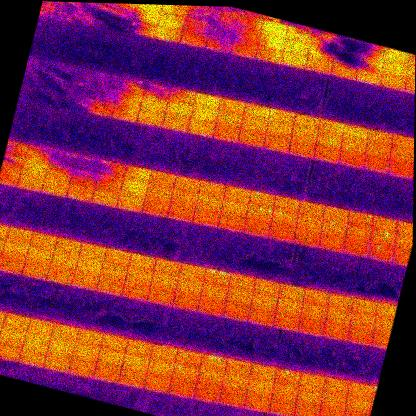Diode: (202, 268, 231, 289)
Hotspot: (273, 366, 302, 389), (128, 252, 157, 274), (104, 247, 132, 269), (367, 242, 395, 264), (5, 226, 34, 247), (293, 228, 322, 249), (342, 238, 371, 259), (171, 364, 200, 385), (224, 358, 253, 379), (1, 240, 29, 261), (297, 200, 325, 221), (175, 349, 203, 370), (220, 199, 249, 219), (270, 208, 299, 228), (248, 190, 276, 210), (347, 210, 375, 230), (200, 354, 228, 374), (320, 220, 348, 239), (369, 229, 397, 248), (119, 77, 147, 96), (246, 204, 273, 223)
Normal: (143, 371, 173, 395), (146, 284, 175, 308), (172, 289, 201, 313), (197, 293, 226, 317), (169, 376, 198, 400), (246, 305, 276, 328), (243, 215, 271, 239), (322, 320, 351, 343), (18, 346, 47, 369), (94, 361, 123, 384), (118, 367, 147, 390), (21, 260, 51, 282), (29, 231, 59, 253), (53, 237, 83, 259), (348, 311, 378, 333), (349, 297, 379, 319), (361, 154, 391, 176), (243, 392, 273, 414), (124, 338, 154, 360), (248, 362, 278, 384), (273, 311, 301, 334), (326, 292, 354, 315), (194, 382, 222, 405), (46, 264, 75, 286), (122, 281, 151, 303), (347, 326, 376, 348), (78, 242, 107, 264), (153, 257, 182, 279), (301, 288, 330, 310), (41, 177, 70, 199), (141, 198, 170, 220), (268, 222, 297, 244), (123, 164, 152, 186), (68, 357, 97, 379), (187, 117, 216, 139), (212, 123, 241, 145), (263, 134, 292, 156), (288, 138, 317, 160), (255, 44, 284, 66), (379, 72, 408, 94), (75, 328, 104, 350), (320, 392, 349, 414), (100, 333, 129, 355), (149, 344, 178, 366), (322, 377, 351, 399), (346, 380, 375, 402), (110, 103, 140, 124), (237, 128, 267, 149), (363, 141, 393, 162), (381, 58, 411, 79), (97, 275, 125, 297), (223, 300, 251, 322), (298, 316, 326, 338), (228, 272, 256, 294), (278, 283, 306, 305), (120, 178, 148, 200), (43, 351, 71, 373), (219, 387, 247, 409), (197, 366, 225, 388), (222, 373, 250, 395), (247, 377, 275, 399), (2, 312, 30, 334), (298, 372, 326, 394), (71, 270, 100, 291), (25, 245, 54, 266), (75, 256, 104, 277), (125, 266, 154, 287), (250, 293, 279, 314), (324, 307, 353, 328), (178, 263, 207, 284), (91, 188, 120, 209), (167, 203, 196, 224), (136, 108, 165, 129), (312, 144, 341, 165), (338, 149, 367, 170), (218, 97, 247, 118), (242, 101, 271, 122), (305, 55, 334, 76), (355, 66, 384, 87), (271, 383, 300, 404), (50, 323, 79, 344), (295, 387, 324, 408), (100, 261, 128, 282), (253, 278, 281, 299), (16, 172, 44, 193), (67, 183, 95, 204), (193, 207, 221, 228), (318, 234, 346, 255), (224, 185, 252, 206), (162, 113, 190, 134), (280, 50, 308, 71), (47, 338, 75, 359), (72, 343, 100, 364), (122, 353, 150, 374), (27, 318, 55, 339), (150, 271, 179, 291), (116, 193, 145, 213), (20, 159, 49, 179), (272, 195, 301, 215), (140, 95, 169, 115), (165, 100, 194, 120), (340, 136, 369, 156), (193, 93, 222, 113), (267, 108, 296, 128), (342, 124, 371, 144), (154, 24, 183, 44), (179, 29, 208, 49), (22, 332, 51, 352), (343, 396, 372, 416), (0, 255, 26, 277), (175, 277, 203, 297), (201, 282, 229, 302), (226, 287, 254, 307), (275, 298, 303, 318), (300, 303, 328, 323), (218, 213, 246, 233), (145, 184, 173, 204), (170, 190, 198, 210), (195, 194, 223, 214), (295, 214, 323, 234), (344, 224, 372, 244), (149, 169, 177, 189), (174, 176, 202, 196), (198, 180, 226, 200), (322, 205, 350, 225), (371, 214, 399, 234), (215, 110, 243, 130), (240, 115, 268, 135), (265, 121, 293, 141), (291, 125, 319, 145), (315, 131, 343, 151), (292, 113, 320, 133), (317, 118, 345, 138), (366, 129, 394, 149), (158, 12, 186, 32), (97, 348, 125, 368), (147, 359, 175, 379), (268, 397, 297, 416), (0, 327, 26, 348), (51, 252, 79, 271), (257, 33, 285, 52), (283, 38, 311, 57), (383, 47, 411, 66), (387, 161, 414, 180), (261, 20, 288, 39), (190, 106, 218, 124), (0, 341, 22, 363), (389, 147, 414, 166), (390, 134, 414, 153), (161, 5, 189, 19), (293, 403, 322, 416), (402, 76, 415, 98), (136, 4, 164, 14), (317, 407, 345, 416), (404, 64, 415, 84), (342, 410, 370, 416), (0, 307, 6, 329), (0, 320, 2, 341)
Shadow: (66, 75, 96, 100), (61, 91, 92, 115), (34, 86, 66, 109), (328, 62, 360, 85), (39, 71, 70, 94), (332, 48, 362, 71), (128, 19, 159, 41), (90, 83, 119, 106), (73, 153, 103, 175), (98, 159, 128, 181), (204, 34, 234, 55), (45, 163, 74, 184), (95, 173, 124, 194), (143, 81, 172, 102), (104, 14, 133, 35), (356, 54, 385, 75), (285, 24, 314, 45), (71, 169, 99, 190), (87, 98, 115, 119), (211, 9, 239, 30), (115, 90, 144, 110), (95, 70, 124, 90), (168, 87, 197, 107), (230, 40, 259, 60), (308, 43, 337, 63), (359, 41, 388, 61), (25, 145, 53, 165), (133, 7, 161, 27), (183, 17, 211, 37), (208, 22, 236, 42), (233, 27, 261, 47), (49, 150, 77, 169), (186, 6, 214, 24), (109, 3, 137, 20), (236, 16, 263, 33), (85, 3, 113, 14), (406, 53, 415, 71), (112, 3, 140, 8)
